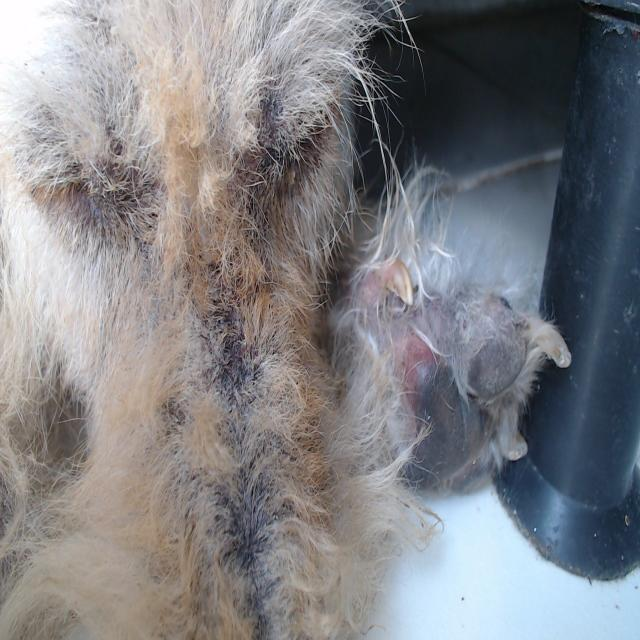demodicosis: (215, 323, 280, 579)
